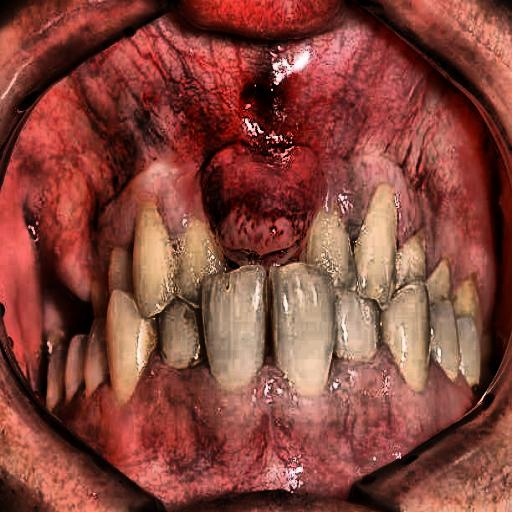Gingivitis: (116, 354, 406, 469), (178, 50, 343, 236), (324, 114, 508, 258), (62, 152, 238, 266)
